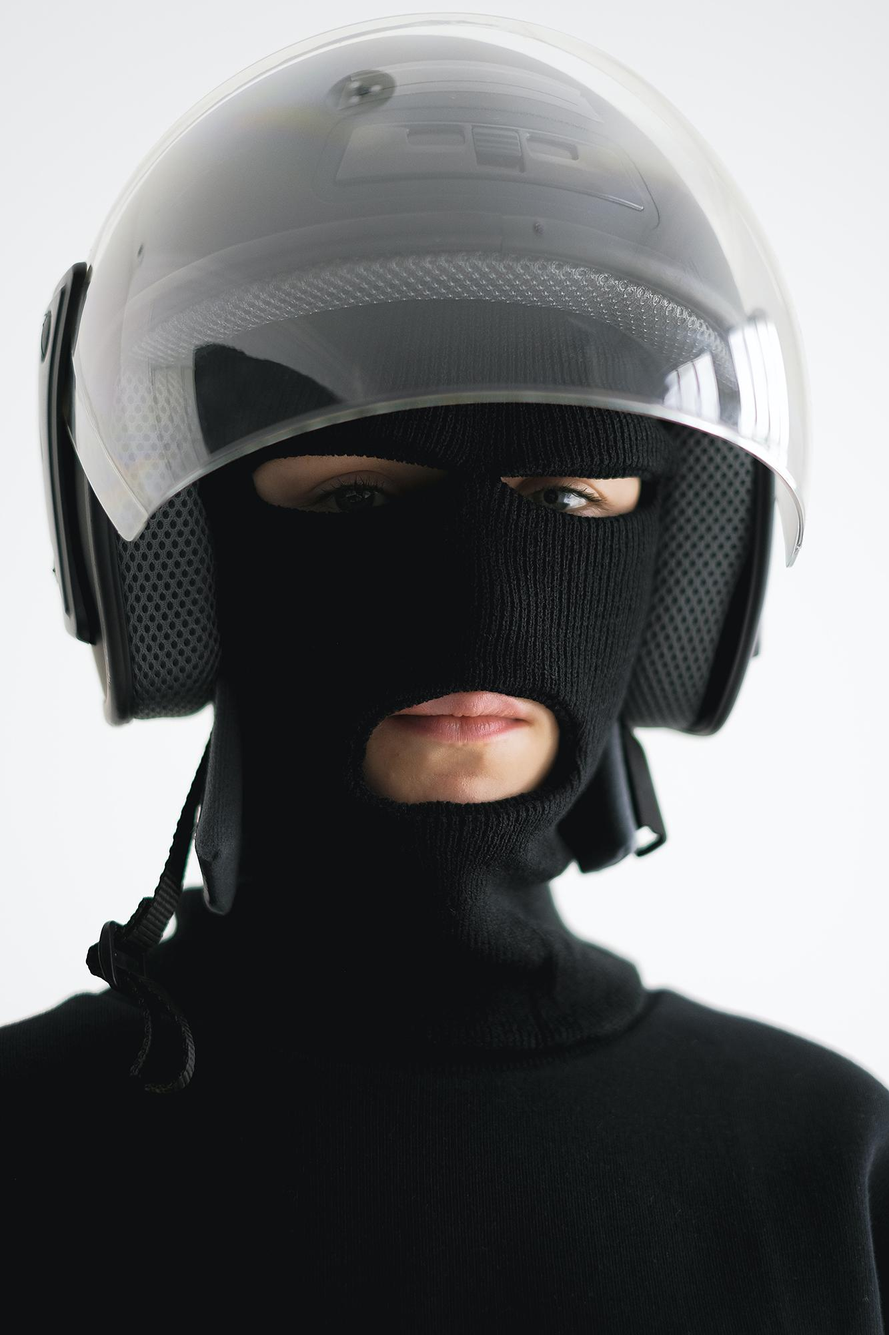helmet: (31, 4, 816, 1106)
